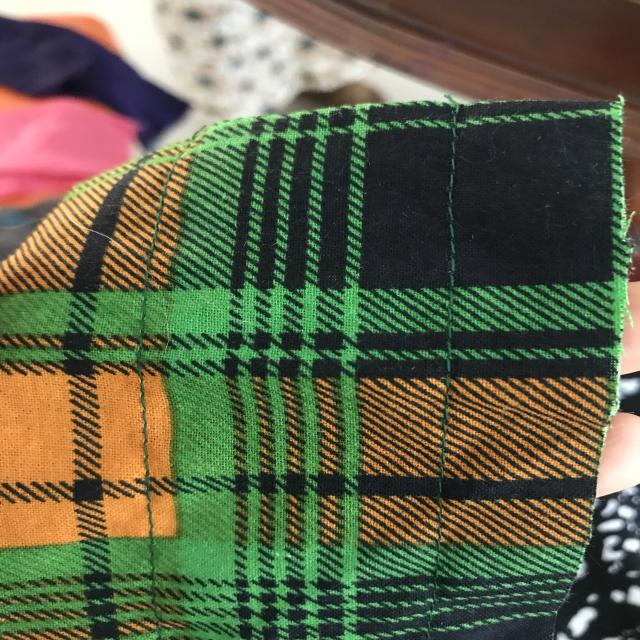good: (432, 158, 470, 245)
